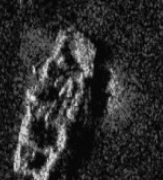ship: (13, 25, 98, 177)
